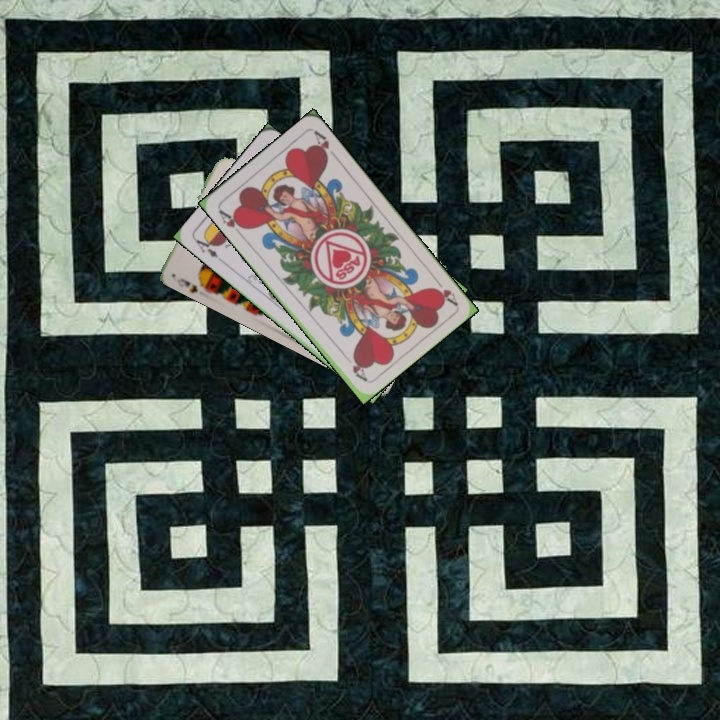EA: (190, 232, 225, 264)
HA: (214, 205, 249, 239), (429, 273, 460, 308)
S9: (173, 274, 210, 295)
